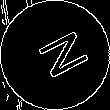N_SW: (23, 26, 87, 84)
